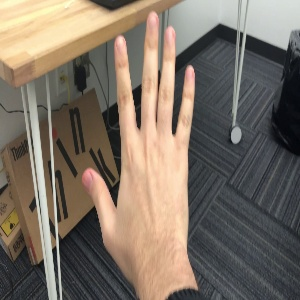hand: (82, 11, 196, 252)
